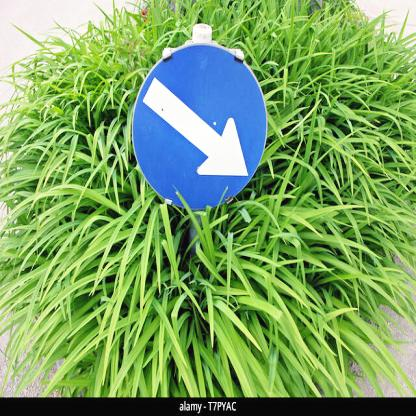Keep right: (130, 41, 267, 215)
